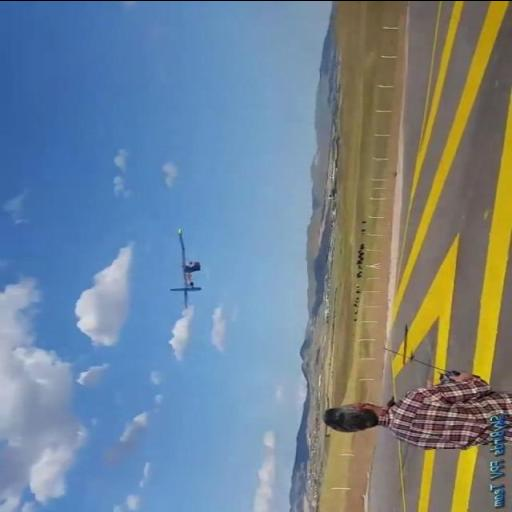uav: (170, 226, 204, 308)
